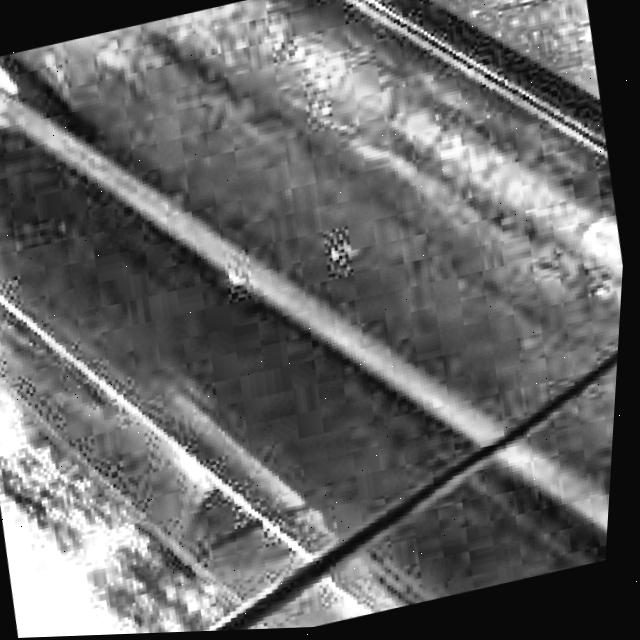door_scratch: (187, 200, 372, 317), (134, 405, 243, 522)
